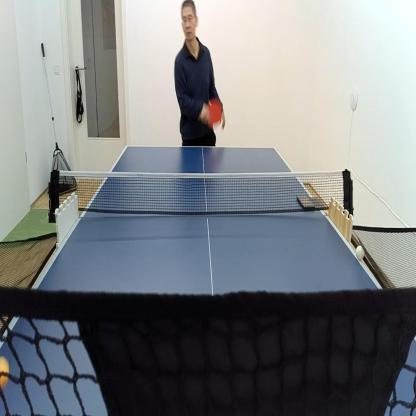Ball: (0, 352, 10, 388), (354, 243, 366, 261)
